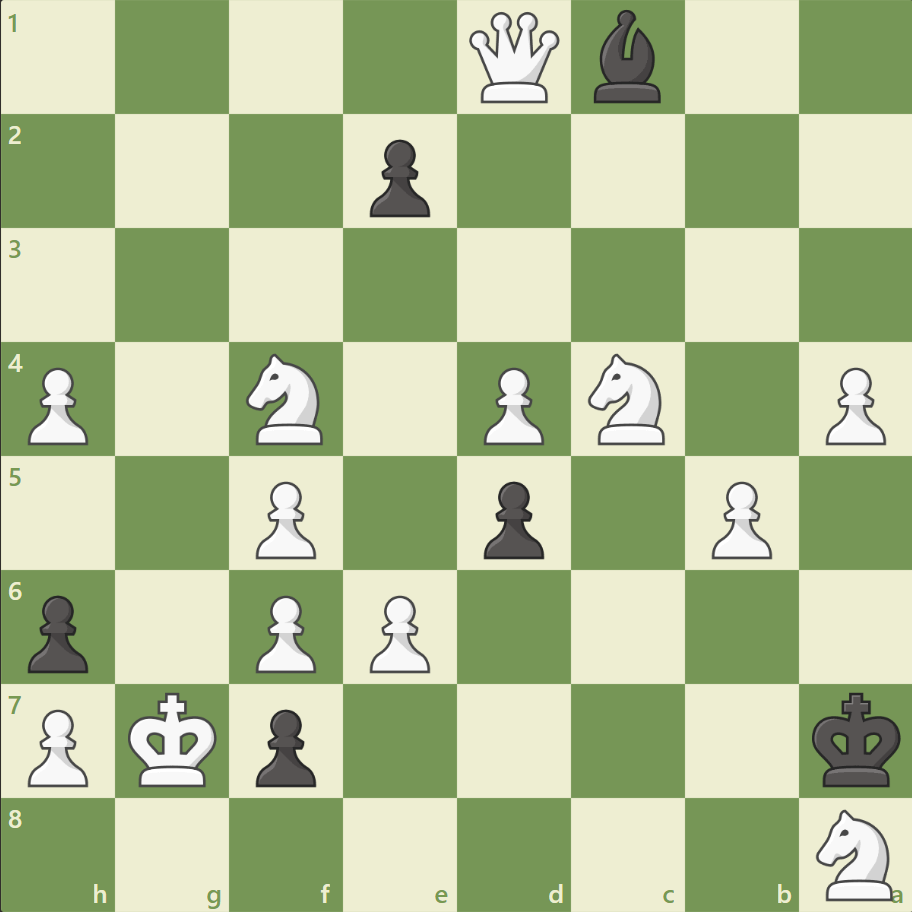K: (124, 685, 224, 793)
N: (806, 802, 903, 904), (579, 348, 676, 450), (238, 348, 335, 450)
P: (20, 700, 95, 791), (247, 586, 322, 677), (701, 473, 776, 564), (247, 473, 322, 564), (474, 359, 549, 450), (20, 359, 95, 450), (361, 586, 435, 677), (815, 359, 889, 450)
Q: (464, 9, 563, 108)
b: (585, 6, 669, 109)
k: (806, 685, 906, 793)
p: (247, 700, 322, 791), (20, 586, 95, 677), (474, 473, 549, 564), (361, 132, 435, 223)
